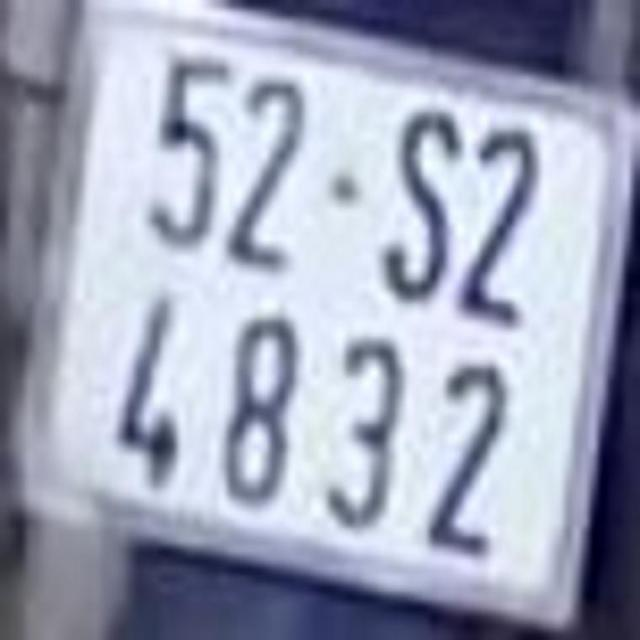2: (227, 66, 309, 266), (428, 354, 508, 556), (465, 119, 539, 328)
3: (325, 326, 411, 536)
4: (113, 279, 181, 486)
5: (146, 47, 225, 259)
8: (222, 311, 296, 507)
S: (377, 105, 458, 314)
